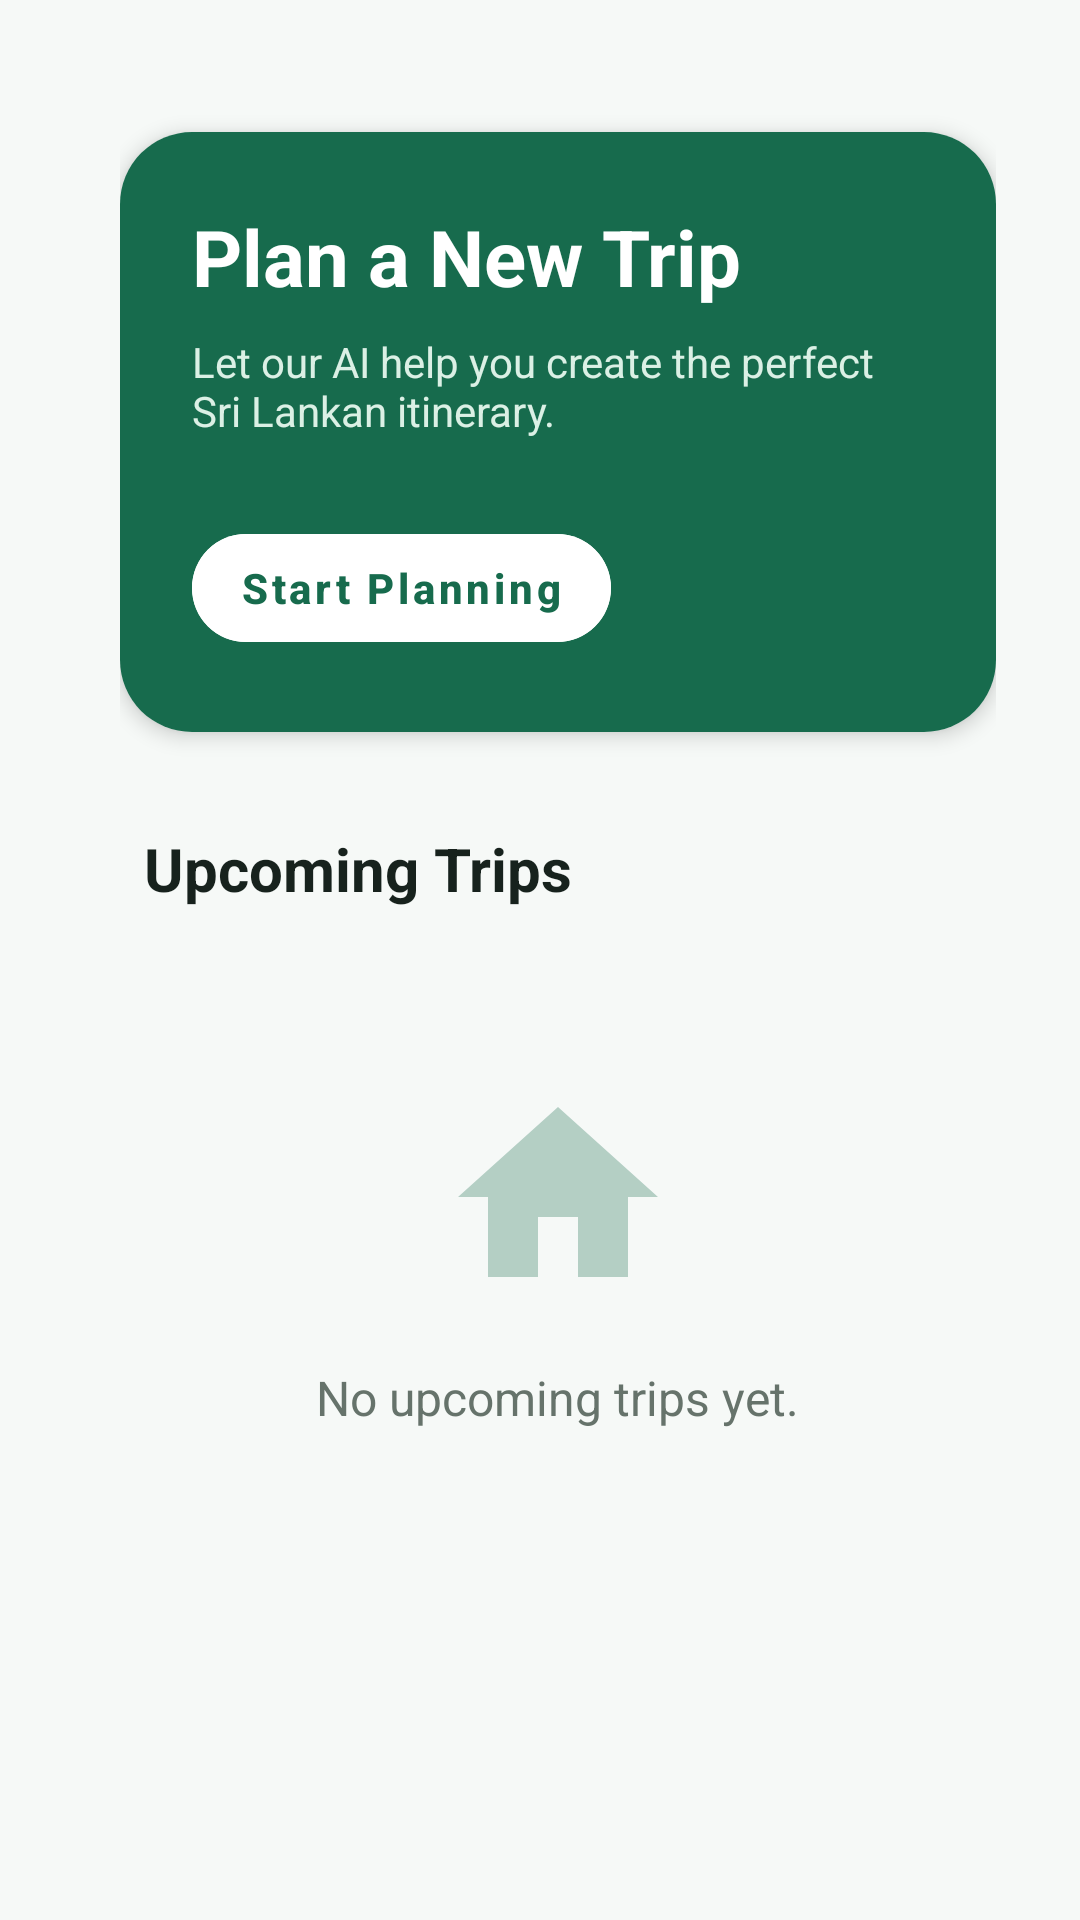

Point at icon controls on the screen. Image size 1080w x 1920h, points as point (x, y).
home: point (558, 1192)
